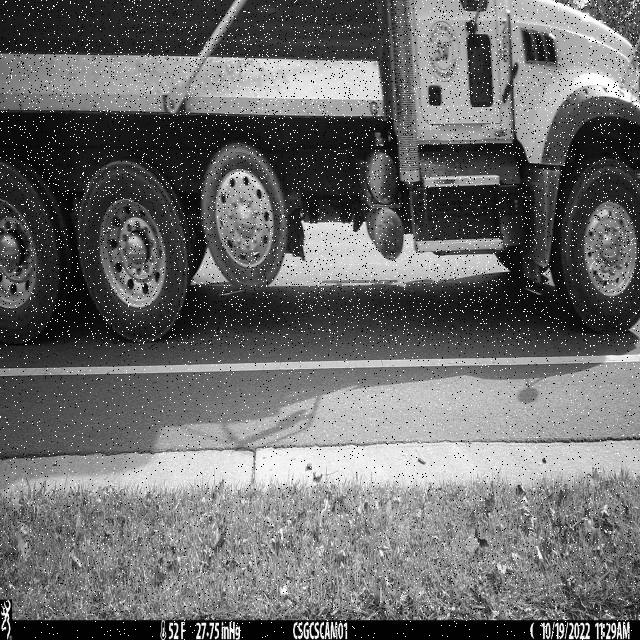Truck- Multi-Axle: (0, 0, 640, 346)
